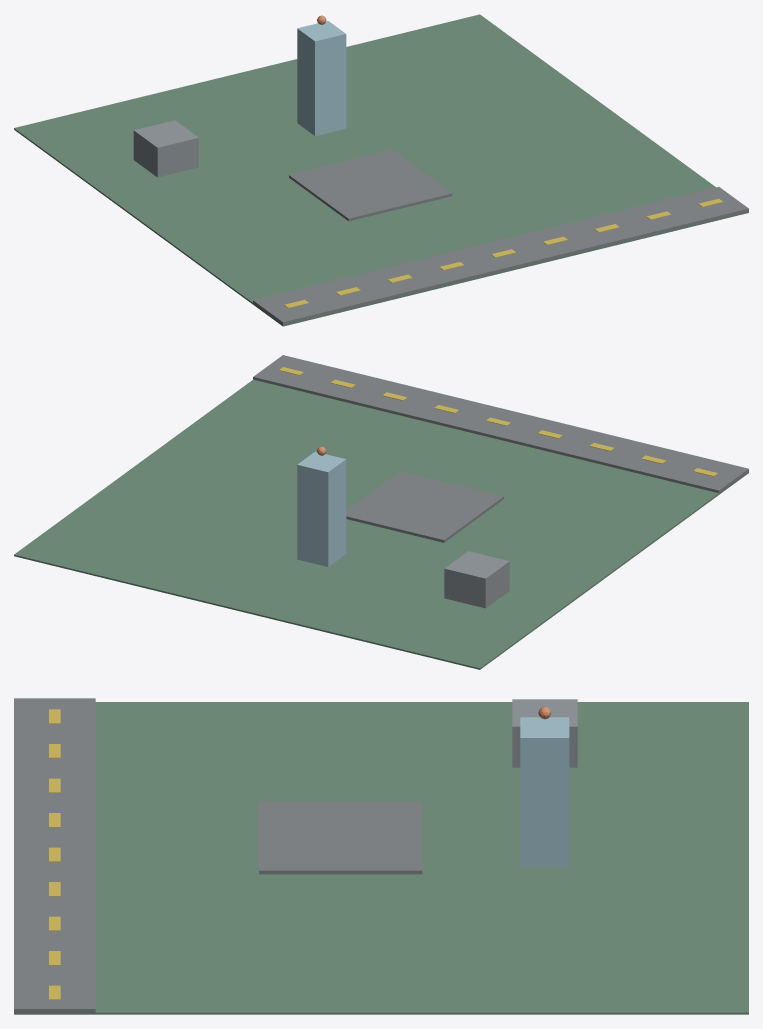
File: stage_03.glb
3 views of the same model, one above another, from view 1: azimuth 30°, elevation 25°; view 2: azimuth 150°, elevation 25°; view 3: azimuth 270°, elevation 25° (orthographic). The views are drawn at different scales.
Visible parts, largest first — view 1: geometry_0; view 2: geometry_0; view 3: geometry_0.
Part boxes in pixels (box(x1,y1,x2,y2)): geometry_0: box(14, 14, 748, 326); geometry_0: box(14, 355, 748, 669); geometry_0: box(14, 698, 748, 1014).
Size of the model in its own units: 9 by 2.06 by 9.
